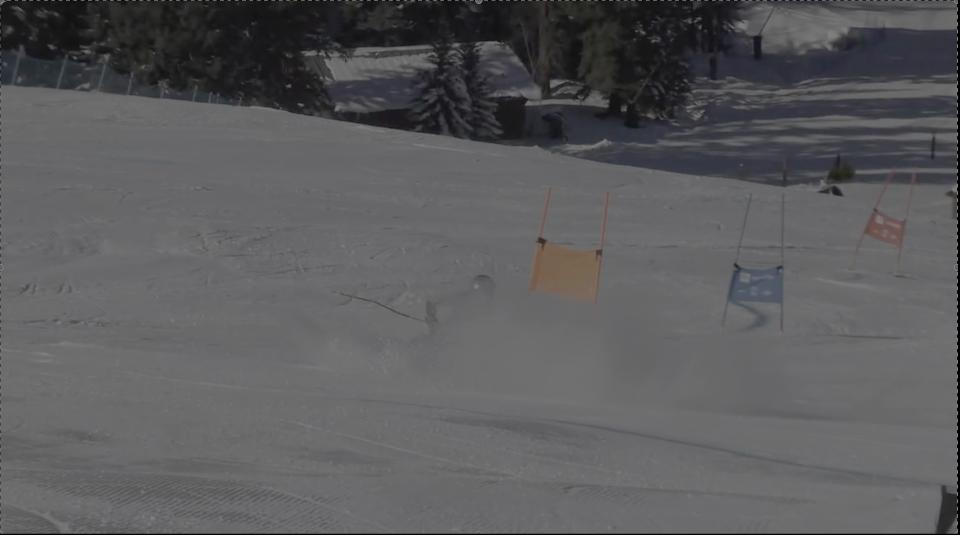gate: (711, 179, 758, 339), (846, 164, 894, 268), (585, 178, 612, 331), (771, 182, 793, 341), (532, 178, 556, 317), (898, 164, 914, 261)
